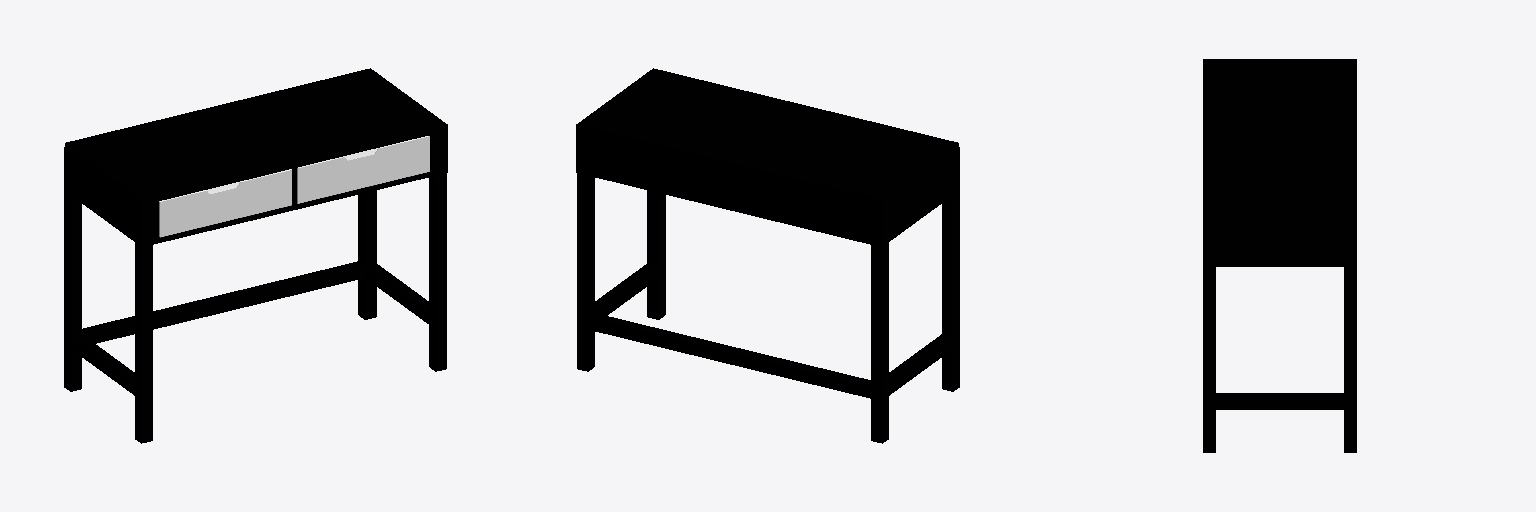
The model's file is desk1_black.obj.
3 views of the same model, side by side, from view 1: azimuth 30°, elevation 25°; view 2: azimuth 150°, elevation 25°; view 3: azimuth 270°, elevation 25° (orthographic).
Parts seen in each view (by area): view 1: Box6938, ChamferBox856, ChamferBox857, Box6945, Box6940, Box6942, Box6939, Box6941, Box6943, Box6944; view 2: Box6938, Box6945, Box6939, Box6941, Box6940, Box6942, Box6944, Box6943; view 3: Box6938, Box6942, Box6941, Box6943, Box6944.
Boxes of the visible parts, x1,y1,x2,y2 form: Box6938: [65, 68, 447, 244]; ChamferBox856: [159, 169, 291, 237]; ChamferBox857: [297, 136, 429, 203]; Box6945: [82, 261, 364, 343]; Box6940: [135, 199, 152, 443]; Box6942: [429, 129, 446, 371]; Box6939: [64, 147, 81, 391]; Box6941: [358, 190, 376, 319]; Box6943: [365, 263, 431, 326]; Box6944: [72, 335, 134, 395]; Box6938: [576, 68, 958, 246]; Box6945: [588, 313, 875, 398]; Box6939: [871, 199, 888, 443]; Box6941: [577, 130, 594, 371]; Box6940: [942, 147, 959, 391]; Box6942: [647, 190, 665, 319]; Box6944: [889, 334, 951, 395]; Box6943: [595, 263, 661, 315]; Box6938: [1203, 59, 1356, 256]; Box6942: [1203, 257, 1215, 452]; Box6941: [1344, 257, 1356, 452]; Box6943: [1210, 393, 1350, 409]; Box6944: [1216, 257, 1343, 266].
Bounding box in the file's own units: 80.21 × 61.01 × 35.01.